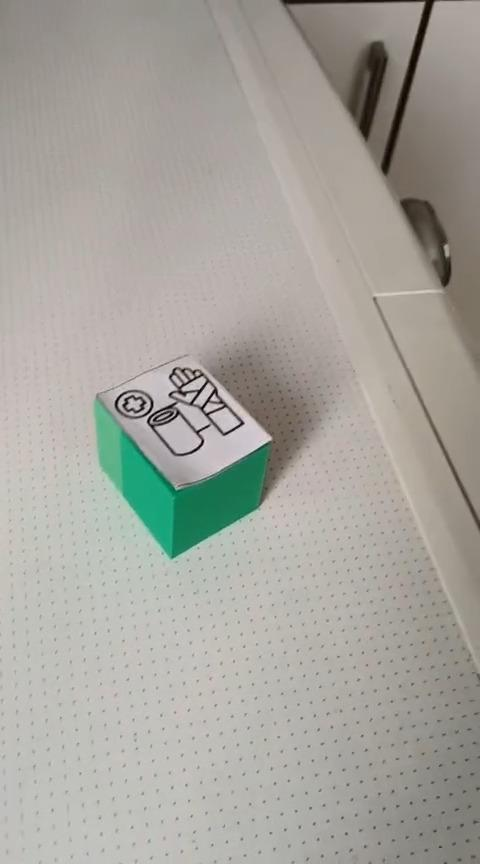Bandages: (96, 354, 272, 559)
